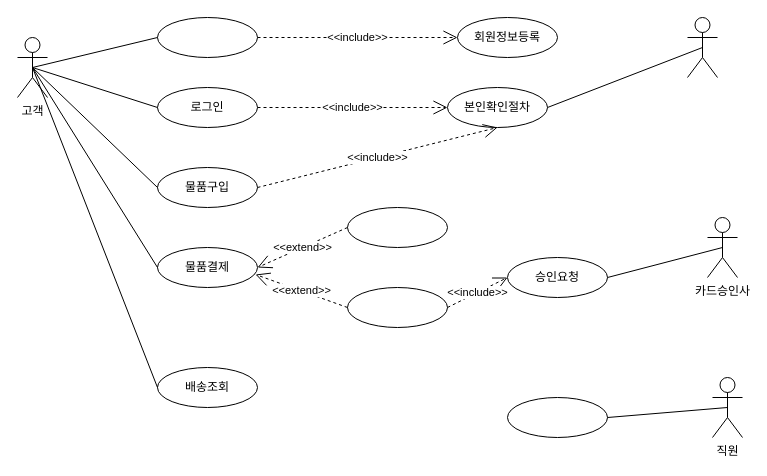
This 767x476 diagram has some shape labels left out. Here are the shapes that lost their labels. From the top down, the centre of each, then its label:
At point (207, 37): "회원가입".
At point (702, 47): "암호화모듈".
At point (397, 227): "포인트 결제".
At point (397, 307): "신용카드 결제".
At point (557, 417): "배송추적".
